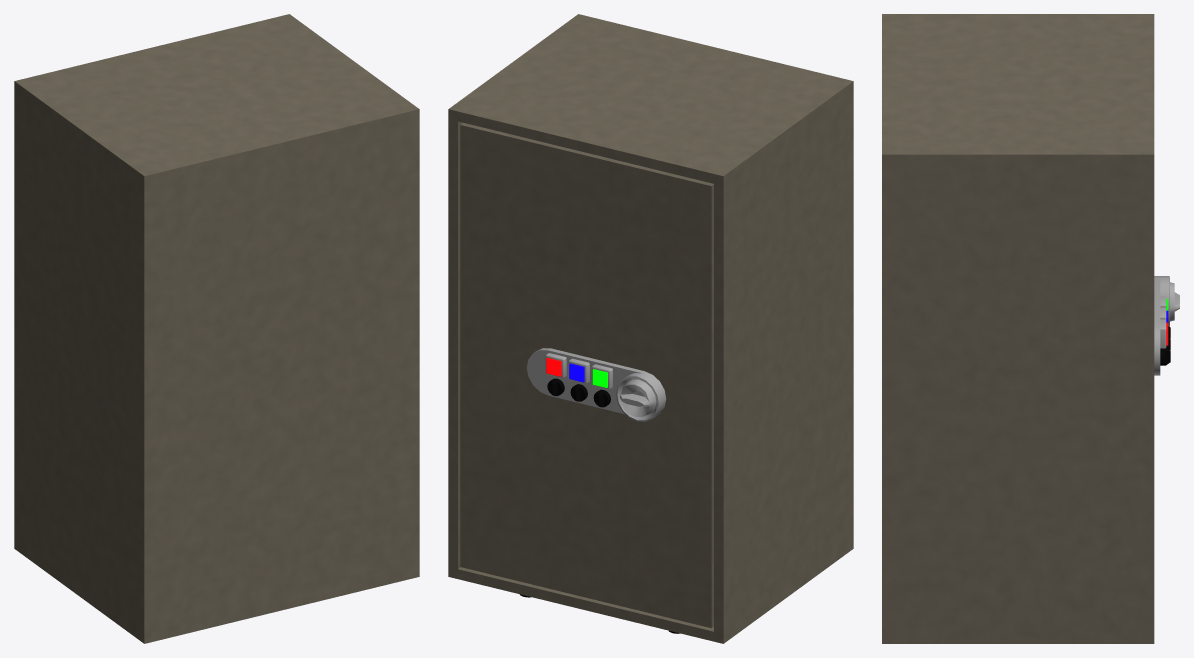
File: safe_parts.fbx
3 views of the same model, side by side, from view 1: azimuth 30°, elevation 25°; view 2: azimuth 150°, elevation 25°; view 3: azimuth 270°, elevation 25° (orthographic). The views are drawn at different scales.
Parts seen in each view (by area): view 1: Cube, Cube.002; view 2: Cube.001, Cube, Cube.002; view 3: Cube, Cube.002, Cube.001.
Boxes of the visible parts, x1,y1,x2,y2 form: Cube: (14,14,419,643); Cube.002: (14,14,419,642); Cube.001: (460,122,713,628); Cube: (448,14,853,643); Cube.002: (448,15,853,642); Cube: (882,14,1154,643); Cube.002: (882,14,1154,643); Cube.001: (1154,276,1179,375).
Size of the model in its own units: 54.98 by 91.95 by 49.24.
Materials: 13 (3 with a texture image).
